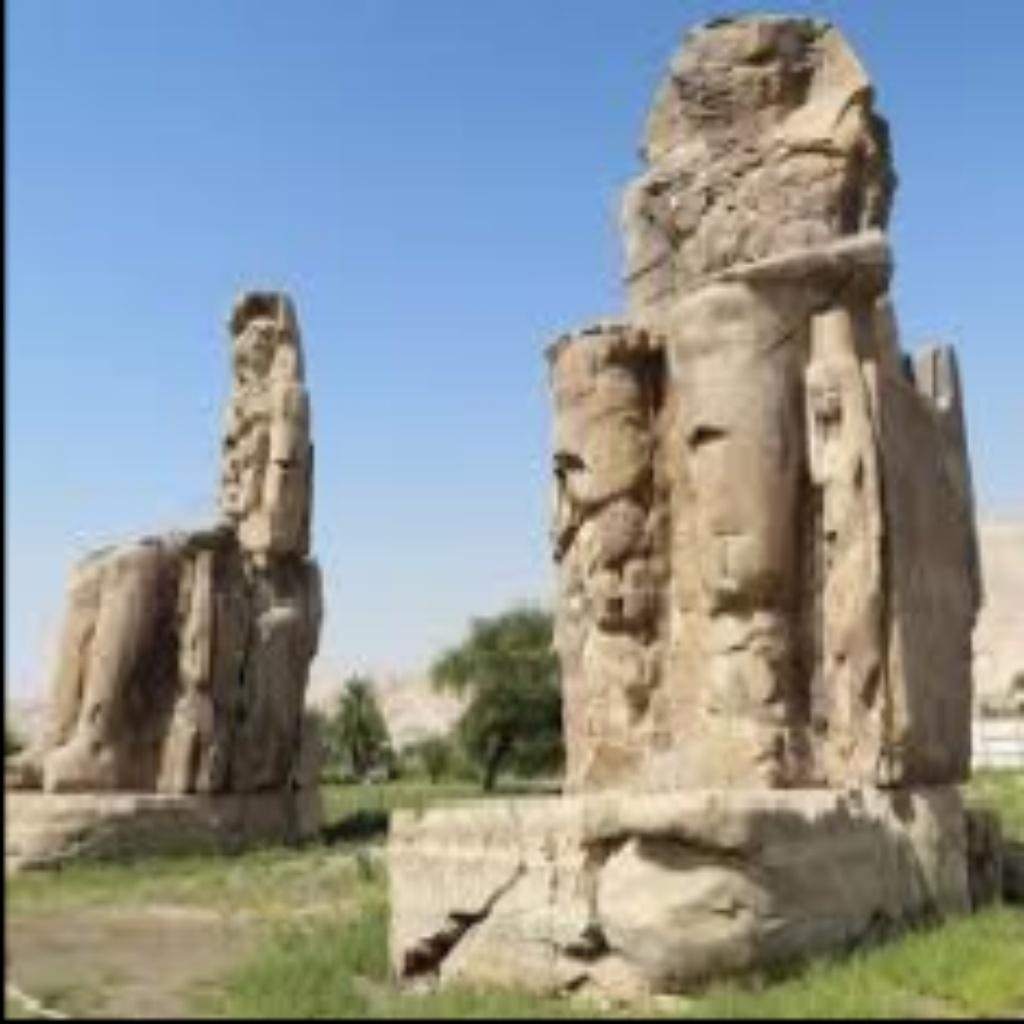Colossoi of Memnon: (388, 4, 1006, 996), (8, 278, 336, 808)
